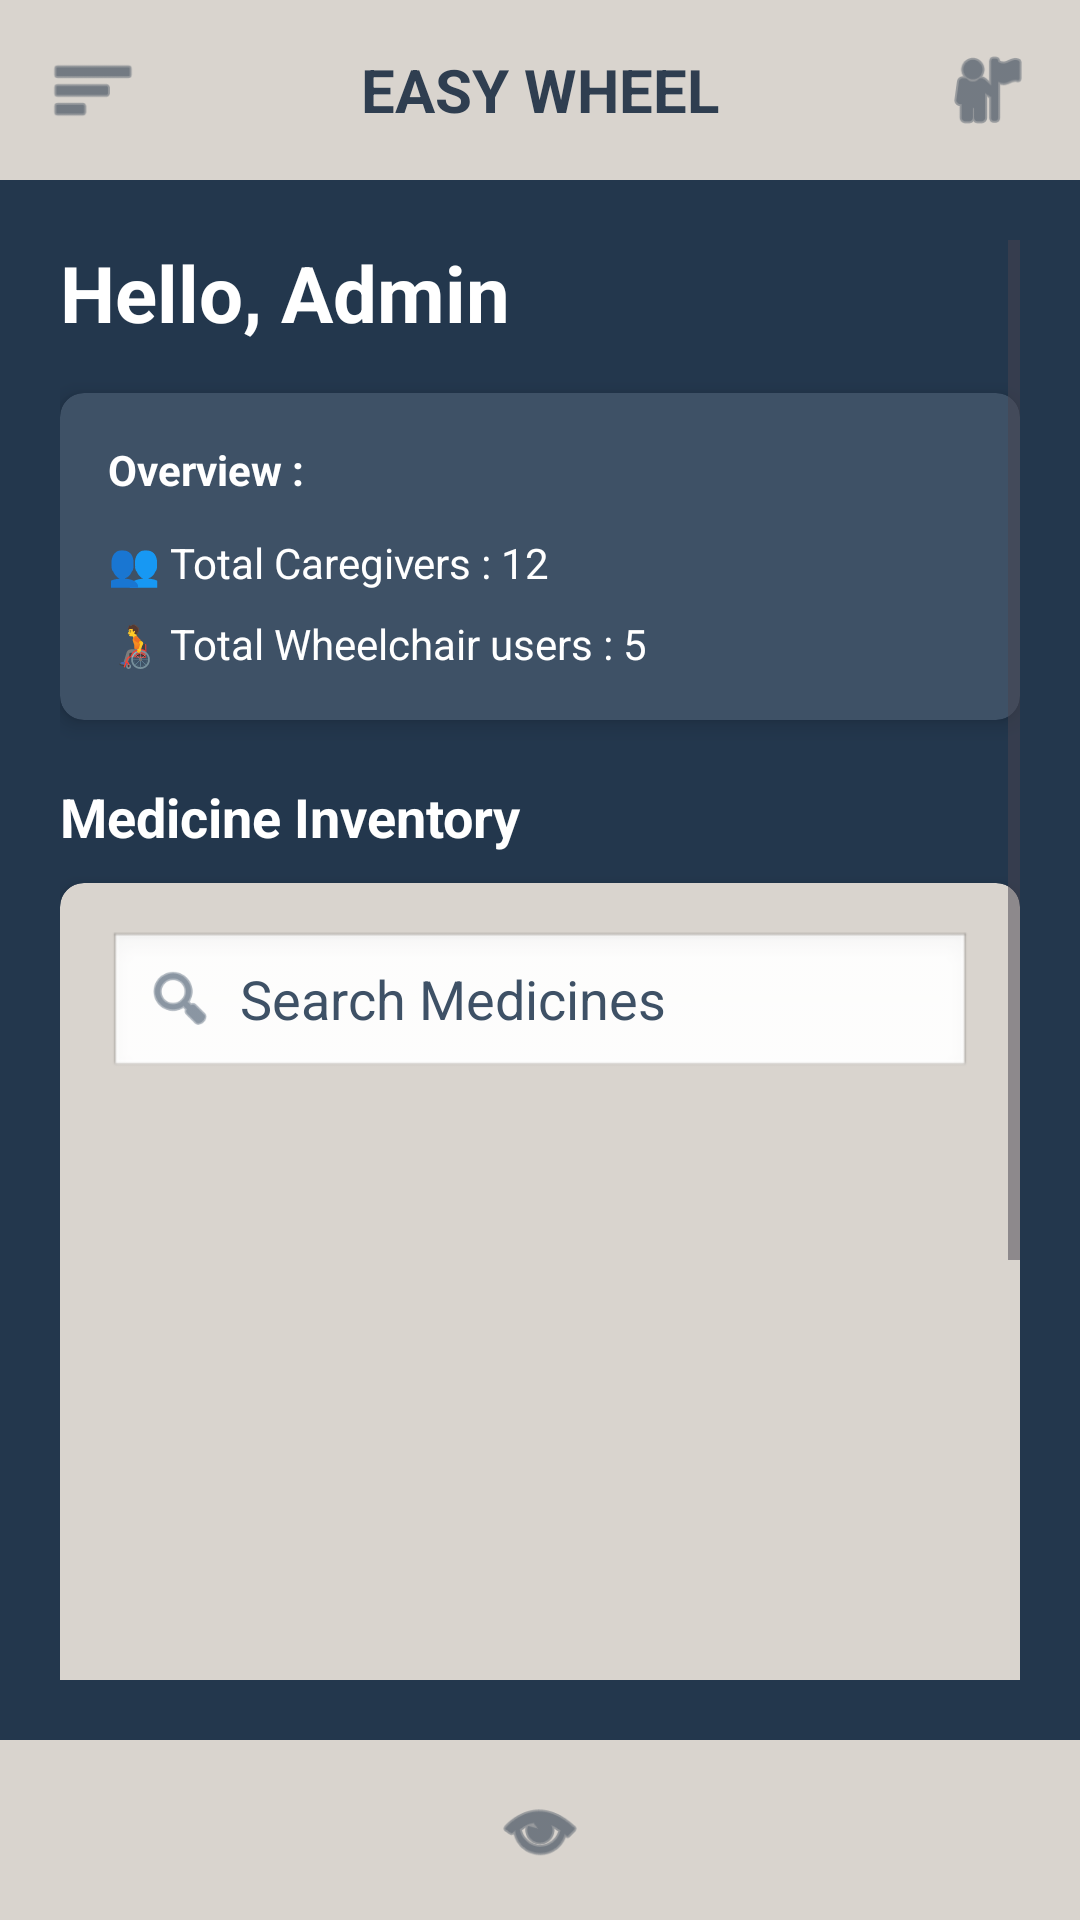

Screen size 1080*1920. Icon name, then its box in pixels as (x1, y1, x2, y2):
myplaces: (954, 57, 1022, 123)
sort by size: (54, 65, 132, 116)
view: (503, 1809, 577, 1855)
